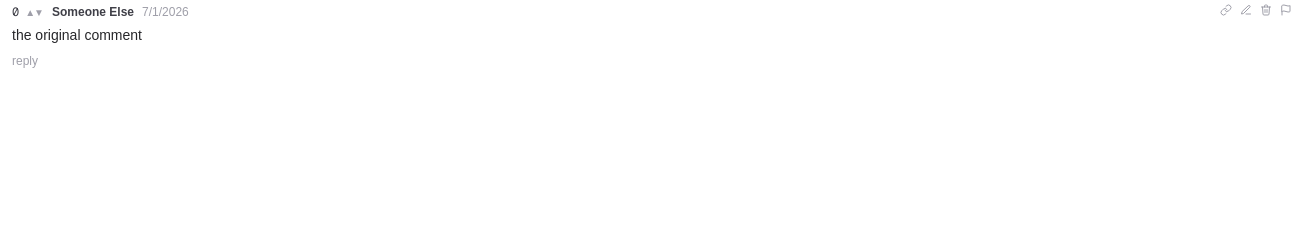
Test: CommentNode reply mention wiring › drops the admin post-as signer when the reply is collapsed
Click the button "reply": (25, 61) top-left (12, 53), bottom-right (38, 69)
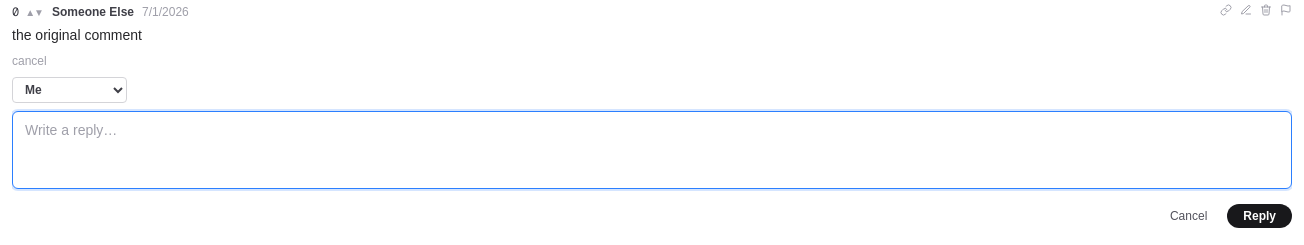
Select "Alice Nguyen" in the dropdown: (70, 90) top-left (12, 77), bottom-right (127, 103)
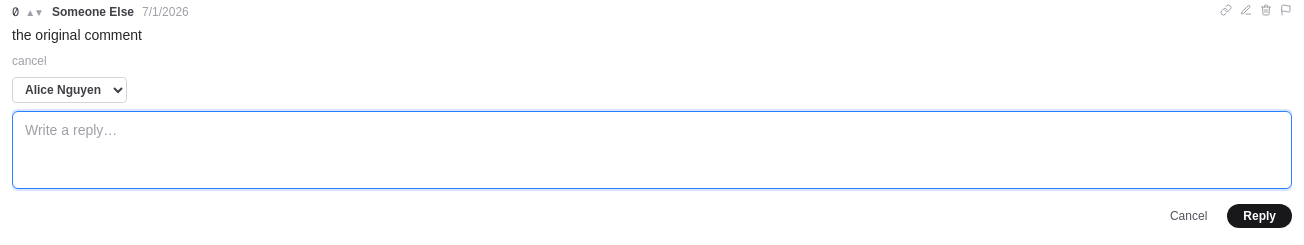
Click the button "cancel": (29, 61) top-left (12, 53), bottom-right (47, 69)
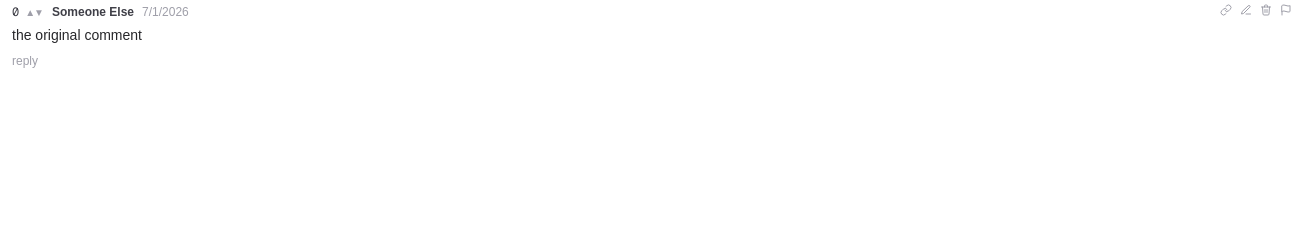
Expected: the dropdown is gone
Click the button "reply": (25, 61) top-left (12, 53), bottom-right (38, 69)
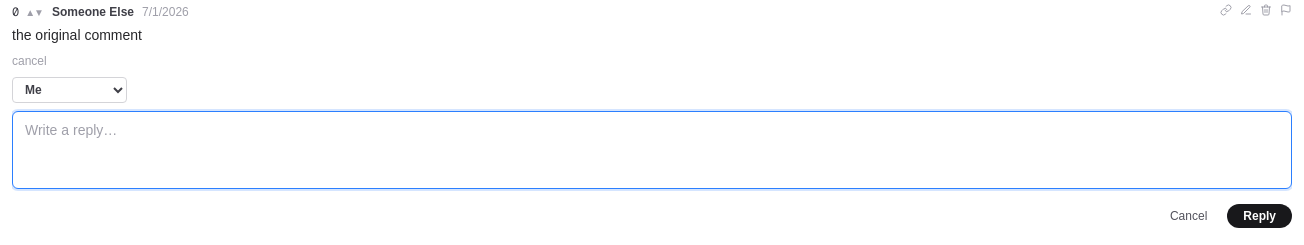
Expected: the dropdown shows "Me", top-left (12, 77), bottom-right (127, 103)
